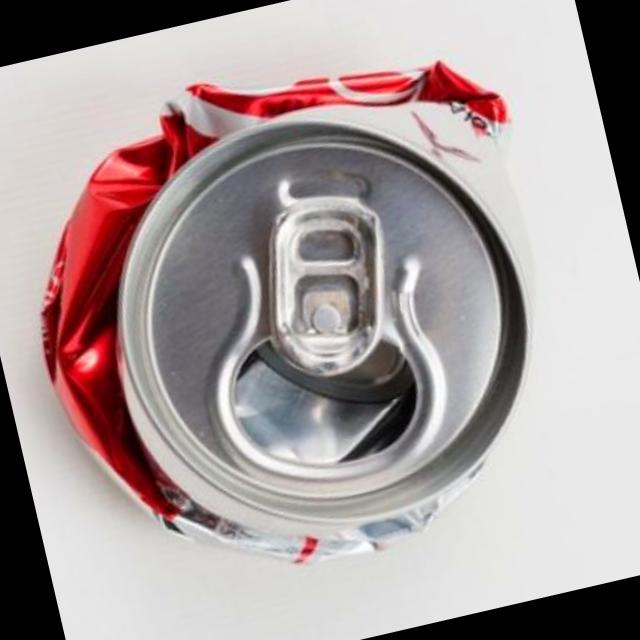metal: (46, 63, 530, 562)
